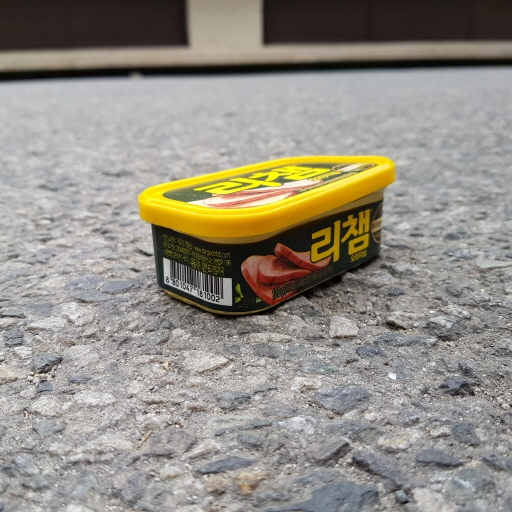Metal_2: (136, 152, 394, 314)
